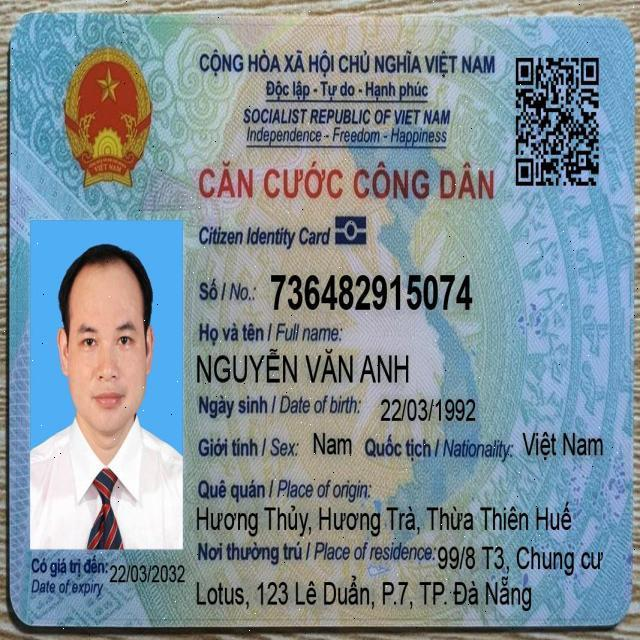current_place: (190, 574, 536, 618), (435, 539, 606, 578)
dob: (377, 391, 479, 429)
expire_date: (107, 557, 189, 589)
gender: (310, 427, 355, 460)
id: (267, 267, 476, 318)
name: (194, 345, 412, 389)
nationality: (520, 426, 606, 465)
origin_place: (193, 498, 576, 540)
